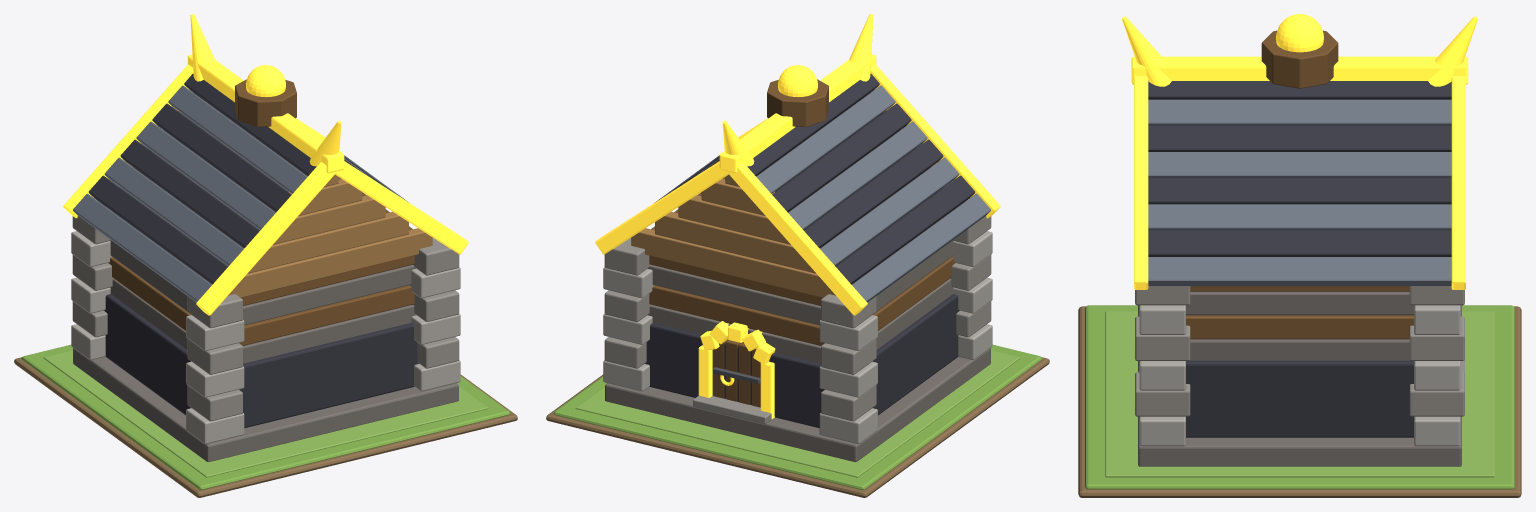
The model's file is builder_hall_lv8.glb.
3 views of the same model, side by side, from view 1: azimuth 30°, elevation 25°; view 2: azimuth 150°, elevation 25°; view 3: azimuth 270°, elevation 25° (orthographic). The views are drawn at different scales.
Parts seen in each view (by area): view 1: BH_SlateWainscot, BH_Foundation, Base_Grass, Base_Inner, WallPlank_4, WallPlank_5, Base_Dirt, WallPlank_3, Gable_-1_0, RoofSlope_-1_2, RoofSlope_-1_3, RoofSlope_-1_6 (+34 smaller); view 2: BH_SlateWainscot, BH_Foundation, Base_Grass, Base_Inner, WallPlank_4, WallPlank_5, Base_Dirt, Gable_1_0, RoofSlope_-1_2, RoofSlope_-1_3, RoofSlope_-1_6, RoofSlope_-1_4 (+40 smaller); view 3: BH_SlateWainscot, Base_Inner, Base_Grass, BH_Foundation, RoofSlope_1_7, RoofSlope_1_1, RoofSlope_1_3, RoofSlope_1_4, RoofSlope_1_5, RoofSlope_1_6, RoofSlope_1_2, Base_Dirt (+24 smaller).
Boxes of the visible parts, <box> form: BH_SlateWainscot: <box>104,294,418,428</box>; BH_Foundation: <box>73,348,458,461</box>; Base_Grass: <box>21,344,510,489</box>; Base_Inner: <box>43,350,488,477</box>; WallPlank_4: <box>108,257,414,345</box>; WallPlank_5: <box>110,240,415,325</box>; Base_Dirt: <box>14,357,517,497</box>; WallPlank_3: <box>110,278,416,363</box>; Gable_-1_0: <box>228,228,432,297</box>; RoofSlope_-1_2: <box>152,103,291,212</box>; RoofSlope_-1_3: <box>136,121,275,230</box>; RoofSlope_-1_6: <box>88,175,227,284</box>; BH_SlateWainscot: <box>645,294,959,428</box>; BH_Foundation: <box>605,348,990,461</box>; Base_Grass: <box>553,344,1042,489</box>; Base_Inner: <box>575,350,1020,477</box>; WallPlank_4: <box>649,257,955,345</box>; WallPlank_5: <box>648,240,953,325</box>; Base_Dirt: <box>546,357,1049,497</box>; Gable_1_0: <box>631,228,835,297</box>; RoofSlope_-1_2: <box>772,103,911,212</box>; RoofSlope_-1_3: <box>788,121,927,230</box>; RoofSlope_-1_6: <box>836,175,975,284</box>; RoofSlope_-1_4: <box>804,139,943,248</box>; BH_SlateWainscot: <box>1186,360,1413,437</box>; Base_Inner: <box>1105,311,1494,477</box>; Base_Grass: <box>1085,305,1514,489</box>; BH_Foundation: <box>1138,305,1461,466</box>; RoofSlope_1_7: <box>1148,257,1451,286</box>; RoofSlope_1_1: <box>1148,99,1451,125</box>; RoofSlope_1_3: <box>1148,152,1451,178</box>; RoofSlope_1_4: <box>1148,178,1451,204</box>; RoofSlope_1_5: <box>1148,204,1451,230</box>; RoofSlope_1_6: <box>1148,230,1451,256</box>; RoofSlope_1_2: <box>1148,126,1451,151</box>; Base_Dirt: <box>1078,306,1521,497</box>.
Bounding box in the file's own units: 3.68 × 3.57 × 3.68.
